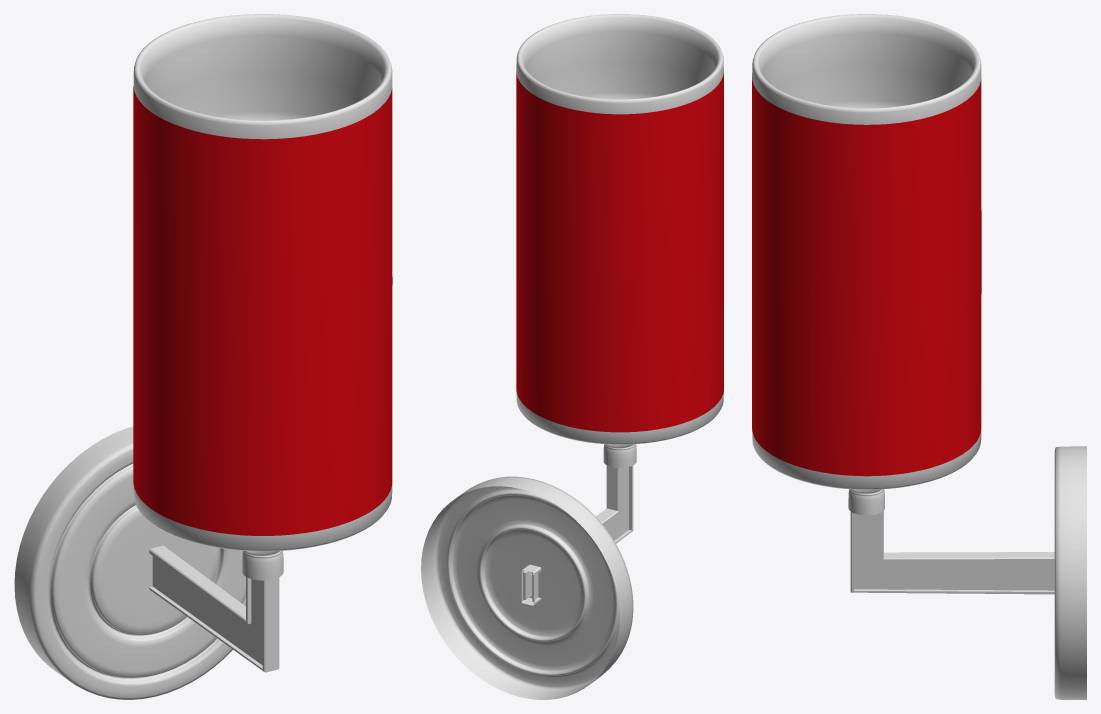
Rendered from lamp.fbx.
The picture shows the model from 3 angles, left to right: view 1: azimuth 30°, elevation 25°; view 2: azimuth 150°, elevation 25°; view 3: azimuth 270°, elevation 25°; orthographic projection. The views are drawn at different scales.
Visible parts, largest first — view 1: Circle, Cylinder, Cube; view 2: Circle, Cylinder, Cube; view 3: Circle, Cube, Cylinder.
Boxes of the visible parts, x1,y1,x2,y2 form: Circle: (133,14,392,580); Cylinder: (14,426,245,699); Cube: (149,545,279,672); Circle: (516,14,723,467); Cylinder: (421,476,633,699); Cube: (521,465,633,605); Circle: (752,14,981,515); Cube: (850,511,1054,594); Cylinder: (1054,446,1086,699).
Bounding box in the file's own units: 199 × 542 × 262.
